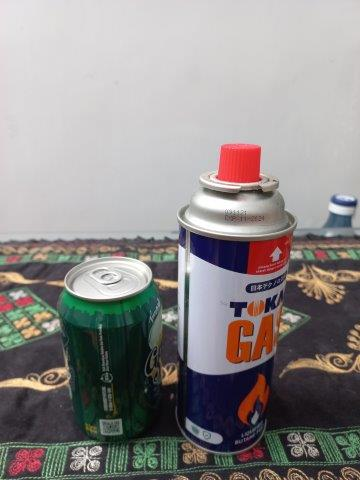kaleng: (180, 145, 295, 452), (59, 257, 161, 444)
